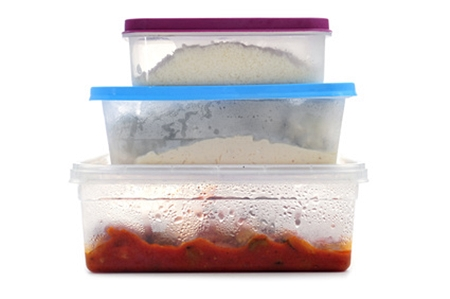PlasticBox: (119, 16, 336, 88)
